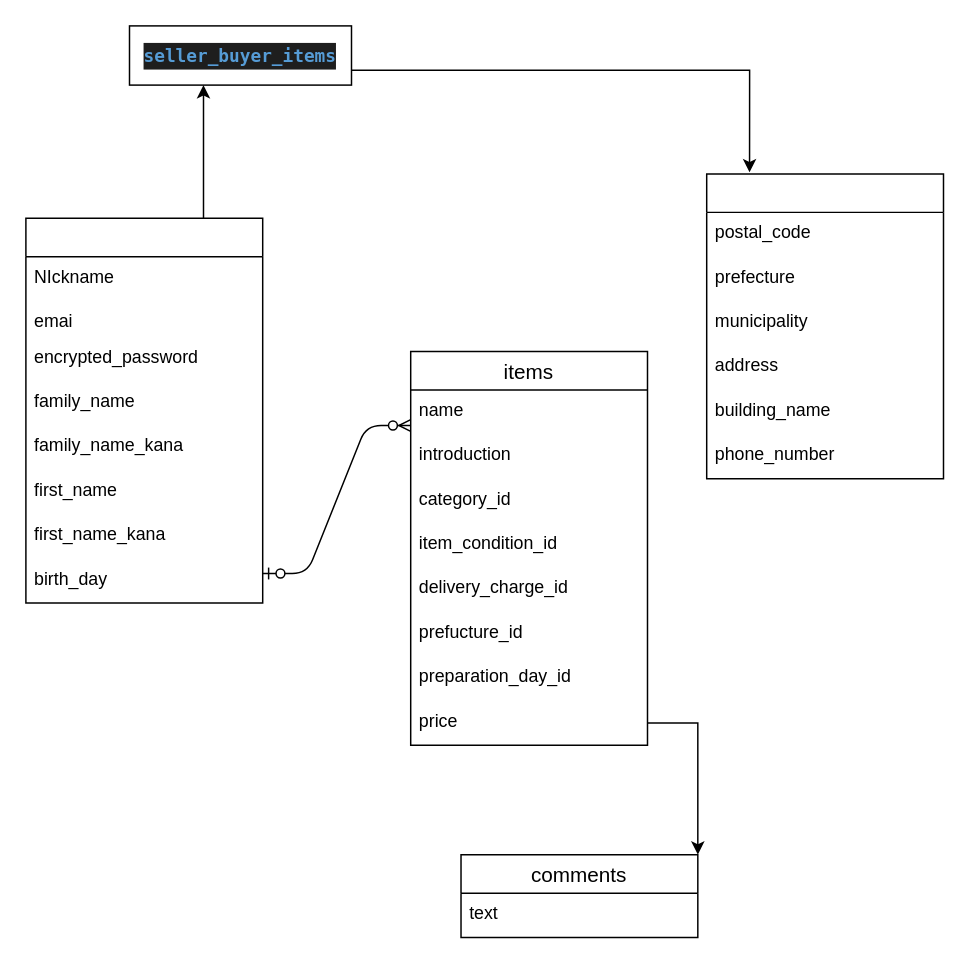
This 969x968 diagram has some shape labels left out. The box of each missing label's shape, as (x1, y1, x2, y2) in pixels:
shipping_addresses: (705, 172, 944, 479)
users: (24, 217, 263, 603)
